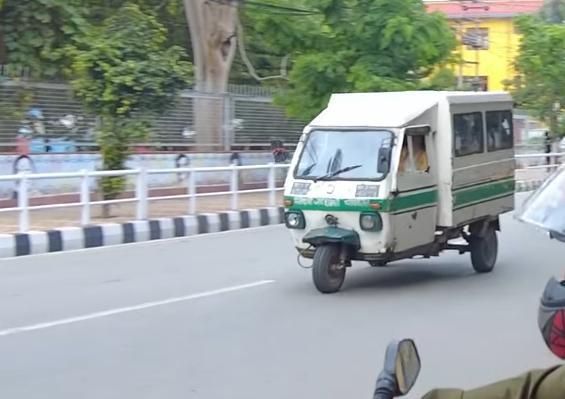tempo: (275, 87, 522, 298)
